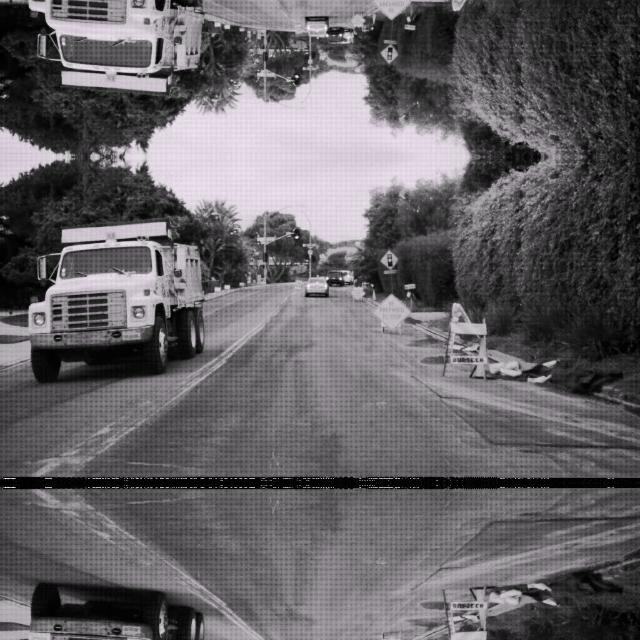signalAhead: (379, 248, 398, 268), (379, 44, 398, 64)
